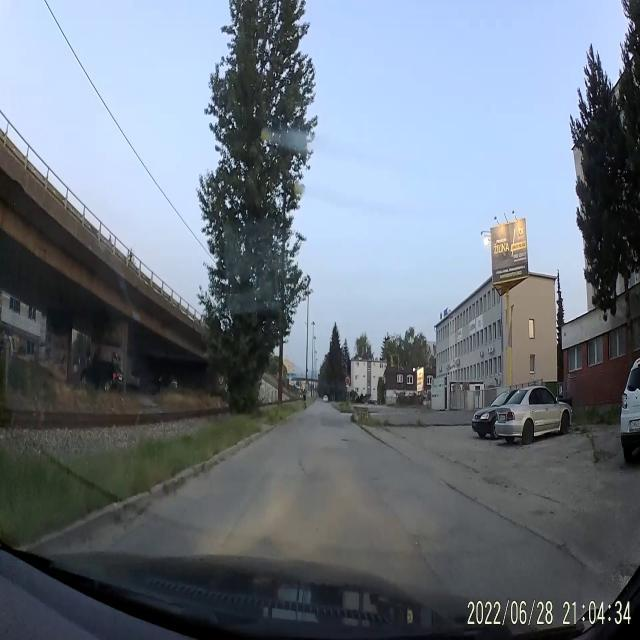Pothole: (410, 532, 423, 548), (297, 456, 307, 476), (342, 438, 349, 442)
